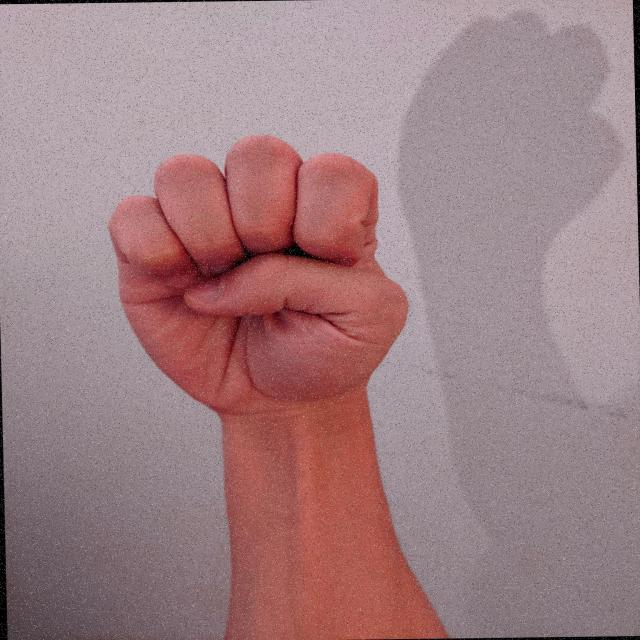E: (98, 128, 416, 418)
